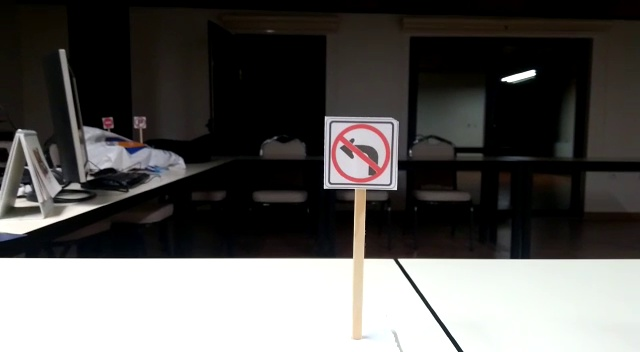sola_donulmez: (329, 128, 396, 183)
